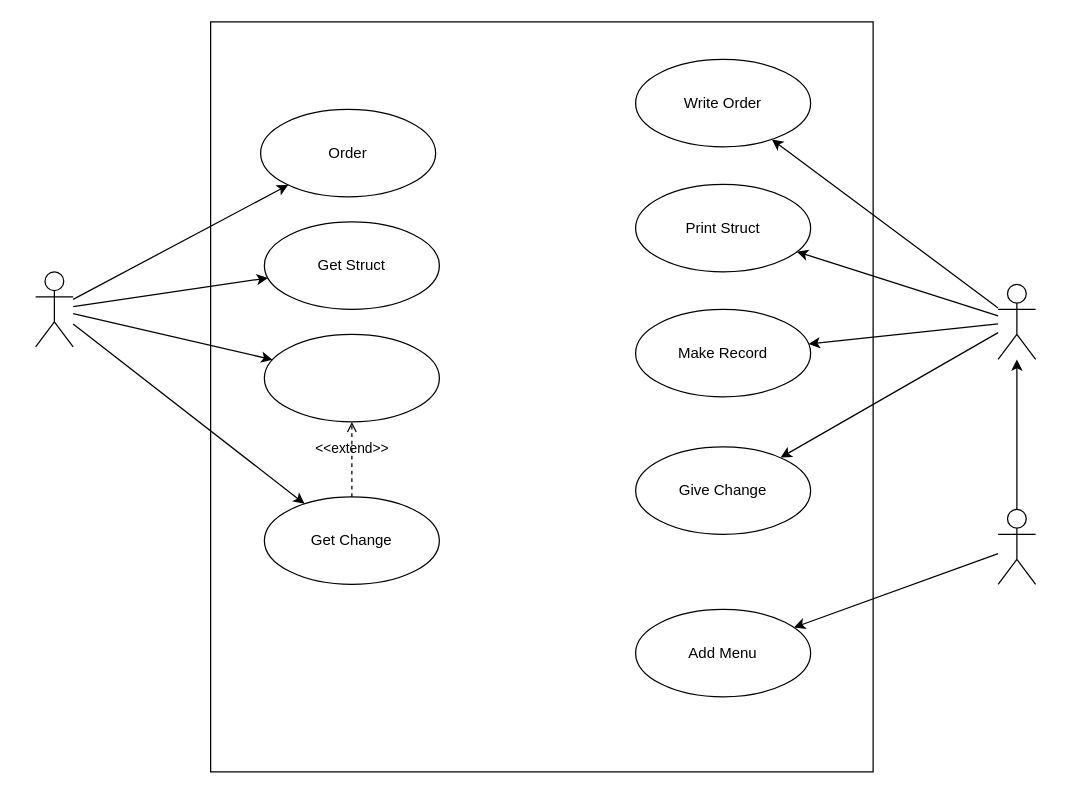
Some shapes in this 1068 by 794 pixel diagram are drawn without their labels. The shapes that lost their labels are listed below. From the top down, each one's box as (x1, y1, x2, y2) in pixels, then its label:
(34, 271, 73, 347): Customer
(997, 283, 1036, 359): Cashier
(263, 333, 439, 422): Pay
(997, 508, 1036, 584): Manager
